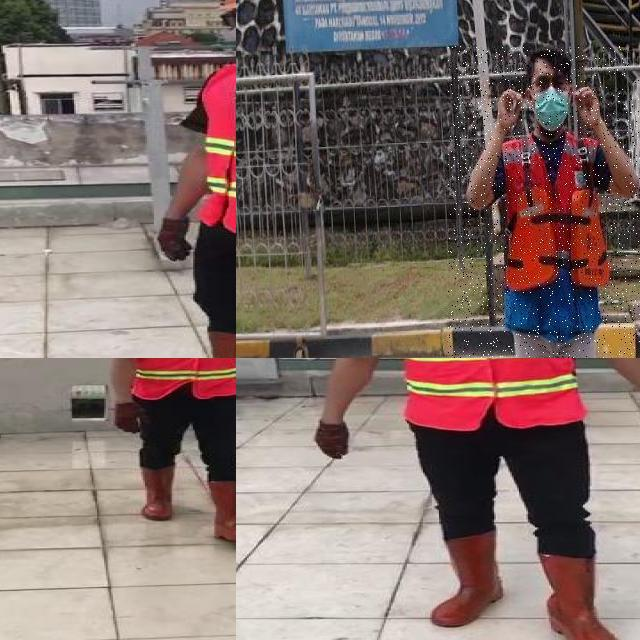boots: (430, 533, 501, 628), (540, 554, 618, 640), (134, 465, 179, 520), (163, 330, 236, 358), (203, 481, 236, 541)
face_mask: (217, 6, 236, 57)
glasses: (212, 6, 236, 32)
hand_glove: (158, 219, 192, 262), (315, 422, 350, 463), (115, 402, 150, 434)
person: (297, 358, 640, 640), (448, 46, 640, 358), (149, 0, 236, 358), (98, 358, 236, 551)
vest: (502, 134, 608, 332), (378, 358, 583, 427), (196, 60, 236, 239), (132, 358, 236, 398)
